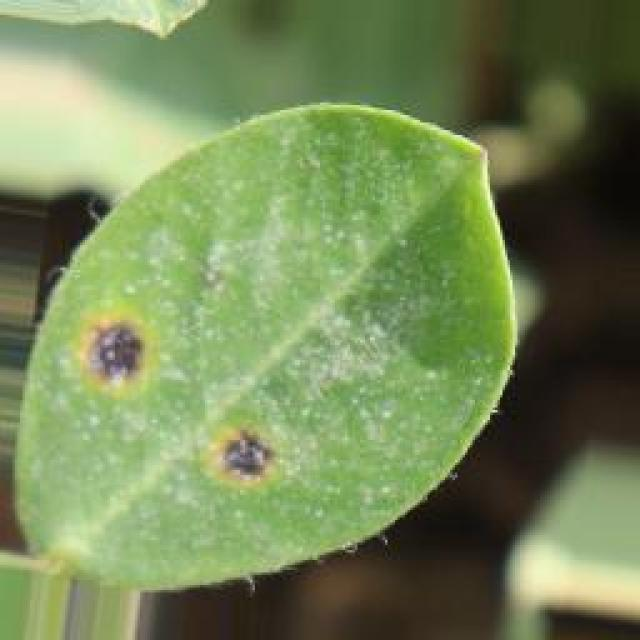Sigatoka: (173, 412, 286, 505), (77, 328, 162, 408)
